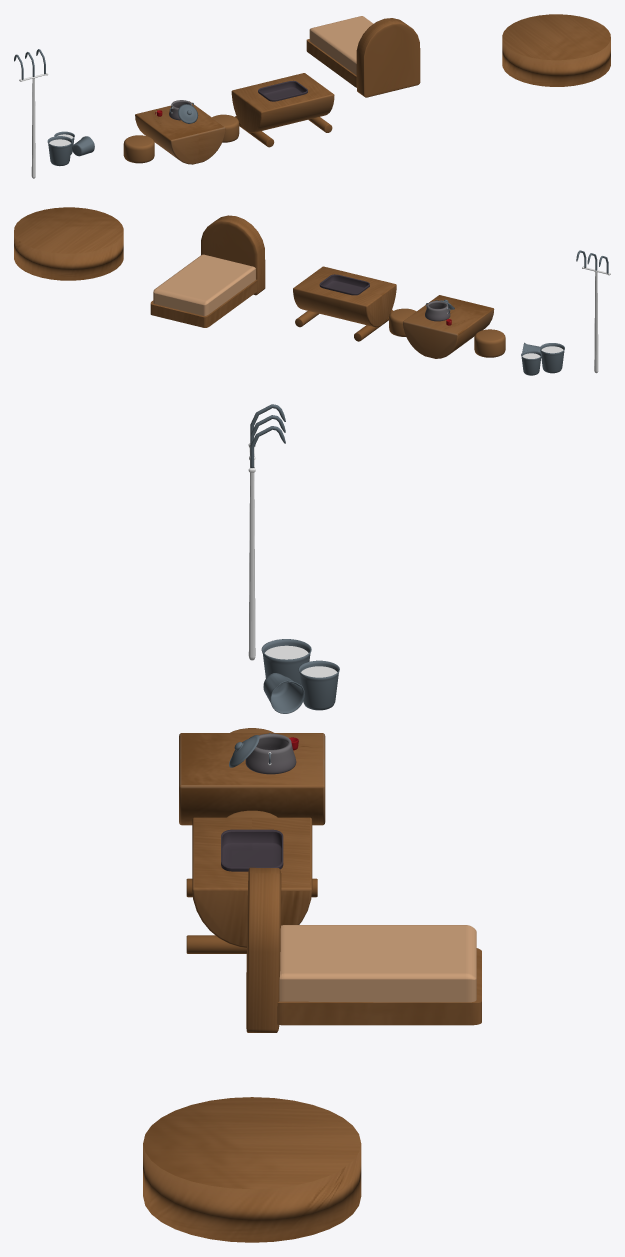
The model's file is quarto_do_link.fbx.
The picture shows the model from 3 angles, top to bottom: view 1: azimuth 30°, elevation 25°; view 2: azimuth 150°, elevation 25°; view 3: azimuth 270°, elevation 25°; orthographic projection. The views are drawn at different scales.
Visible parts, largest first — view 1: Cylinder.004, Cylinder.003, Circle, Circle.003, Cube.001, Circle.005, Cube, Cube.002, Circle.006, Circle.004, Plane, Circle.008 (+3 smaller); view 2: Cylinder.004, Cube.001, Circle, Circle.003, Cylinder.003, Cube.002, Circle.005, Cube, Circle.006, Circle.004, Cylinder, Plane (+2 smaller); view 3: Cylinder.004, Cube.001, Circle.003, Circle, Cylinder.003, Cube.002, Cube, Cylinder, Circle.009, Circle.008, Circle.006, Plane.
Part boxes in pixels (<box>): Cylinder.004: <box>502,14,610,86</box>; Cylinder.003: <box>356,18,420,97</box>; Circle: <box>231,73,334,132</box>; Circle.003: <box>135,101,225,164</box>; Cube.001: <box>309,16,373,75</box>; Circle.005: <box>123,135,154,163</box>; Cube: <box>258,80,307,101</box>; Cube.002: <box>306,39,356,87</box>; Circle.006: <box>47,136,72,166</box>; Circle.004: <box>212,114,239,142</box>; Plane: <box>31,76,35,178</box>; Circle.008: <box>72,136,94,156</box>; Cylinder.004: <box>14,207,123,280</box>; Cube.001: <box>153,254,255,315</box>; Circle: <box>293,266,396,327</box>; Circle.003: <box>403,295,494,358</box>; Cylinder.003: <box>201,215,265,295</box>; Cube.002: <box>150,279,257,327</box>; Circle.005: <box>474,329,505,357</box>; Cube: <box>319,274,369,295</box>; Circle.006: <box>540,343,564,373</box>; Circle.004: <box>389,308,416,336</box>; Cylinder: <box>425,301,450,321</box>; Plane: <box>594,270,598,373</box>; Cylinder.004: <box>143,1097,361,1242</box>; Cube.001: <box>279,925,476,1002</box>; Circle.003: <box>179,733,325,825</box>; Circle: <box>192,817,312,947</box>; Cylinder.003: <box>246,867,281,1032</box>; Cube.002: <box>277,948,481,1025</box>; Cube: <box>221,829,283,871</box>; Cylinder: <box>245,733,296,774</box>; Circle.009: <box>298,660,339,710</box>; Circle.008: <box>263,673,304,713</box>; Circle.006: <box>261,639,311,684</box>; Plane: <box>248,456,255,660</box>.
Size of the model in its own units: 4566 by 1013 by 1147.
